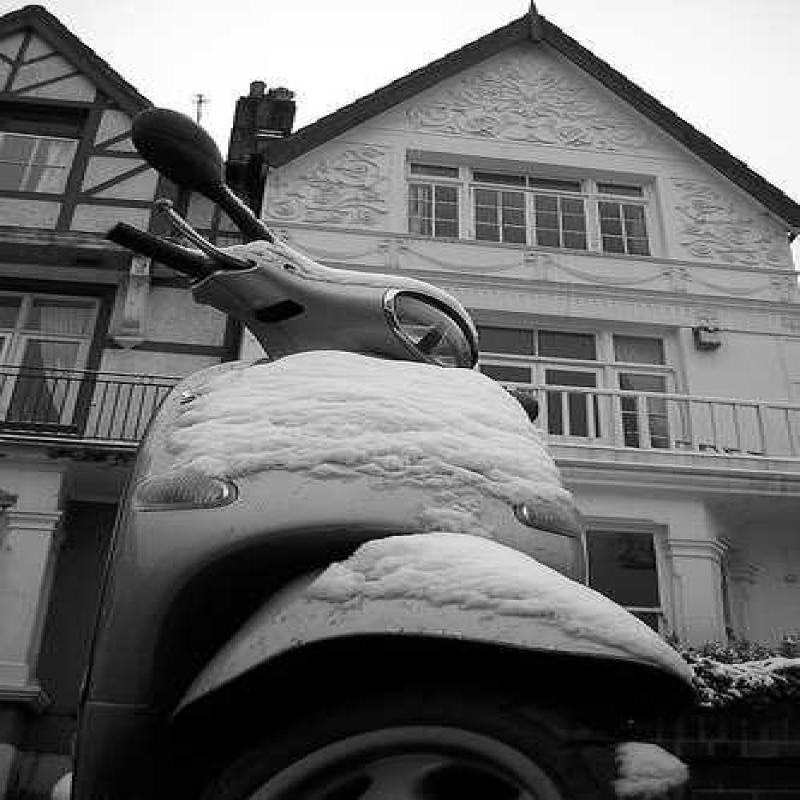bike: (0, 57, 675, 800)
